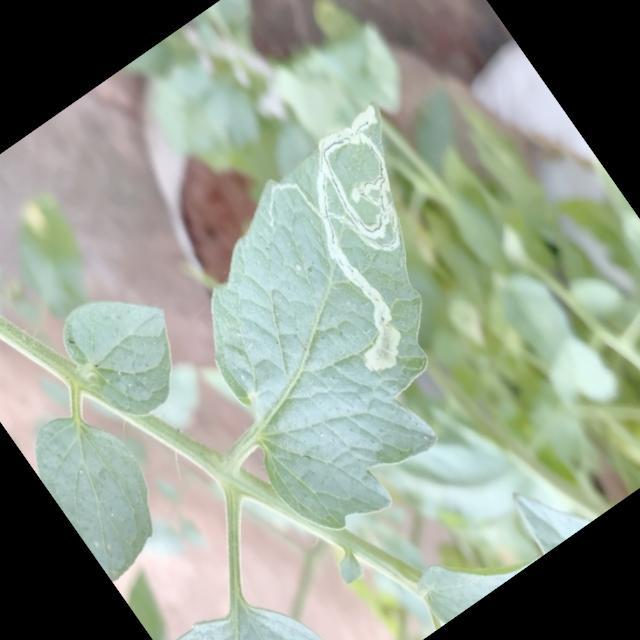Tomato target spot leaf: (123, 98, 571, 554)
